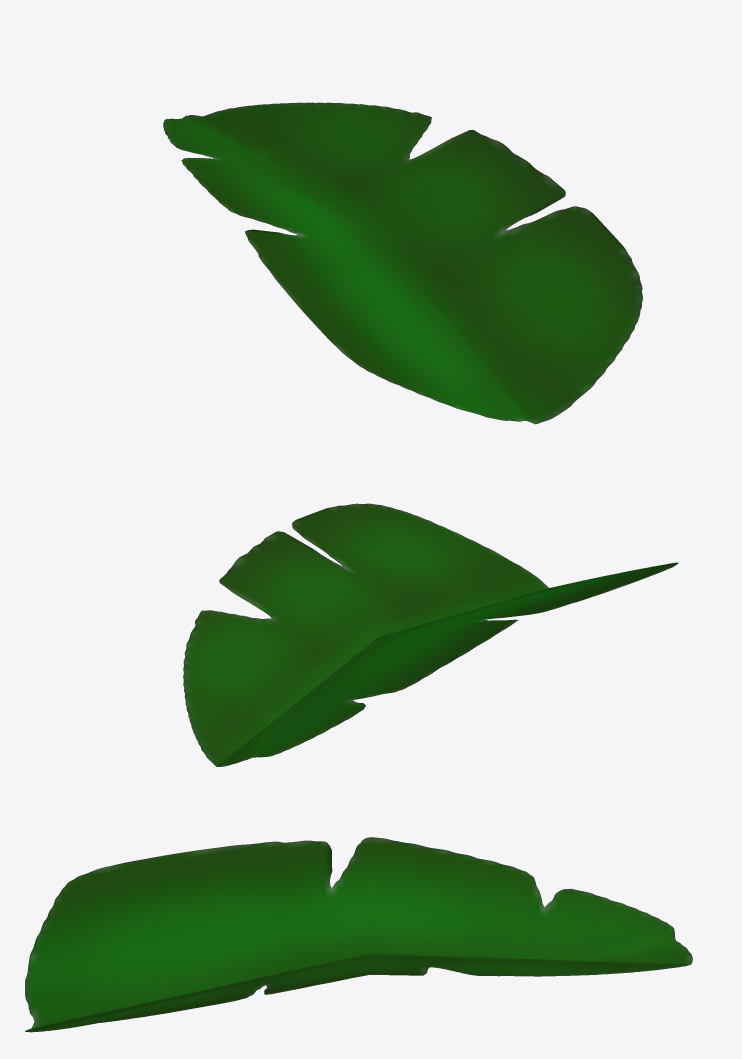
File: Leaf_Style_C.fbx
The picture shows the model from 3 angles, top to bottom: view 1: azimuth 30°, elevation 25°; view 2: azimuth 150°, elevation 25°; view 3: azimuth 270°, elevation 25°; orthographic projection.
Parts seen in each view (by area): view 1: Leaf_Style_C; view 2: Leaf_Style_C; view 3: Leaf_Style_C.
Boxes of the visible parts, x1=… form: Leaf_Style_C: x1=163, y1=102, x2=642, y2=424; Leaf_Style_C: x1=183, y1=503, x2=677, y2=766; Leaf_Style_C: x1=25, y1=837, x2=692, y2=1032.
Size of the model in its own units: 72.42 by 27.48 by 127.
